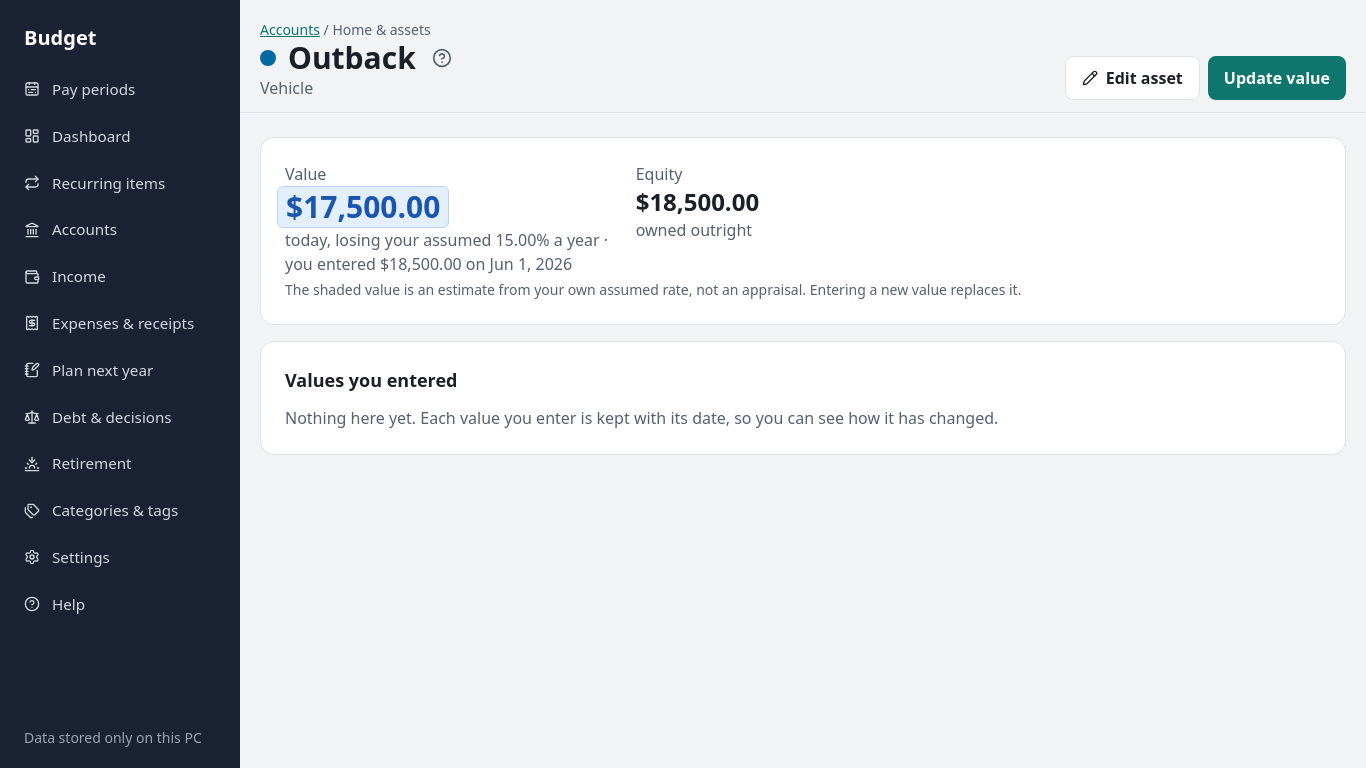
Test: accounts screen: home & assets › opens a car that loses value on that choice, and words its estimate as a loss
expect the text "today, losing your assumed 15.00% a year · you entered $18,500.00 on Jun 1, 2026" is shown: met, box [285, 228, 620, 276]
Click the button "Edit asset": (1132, 78) [1065, 56, 1200, 100]
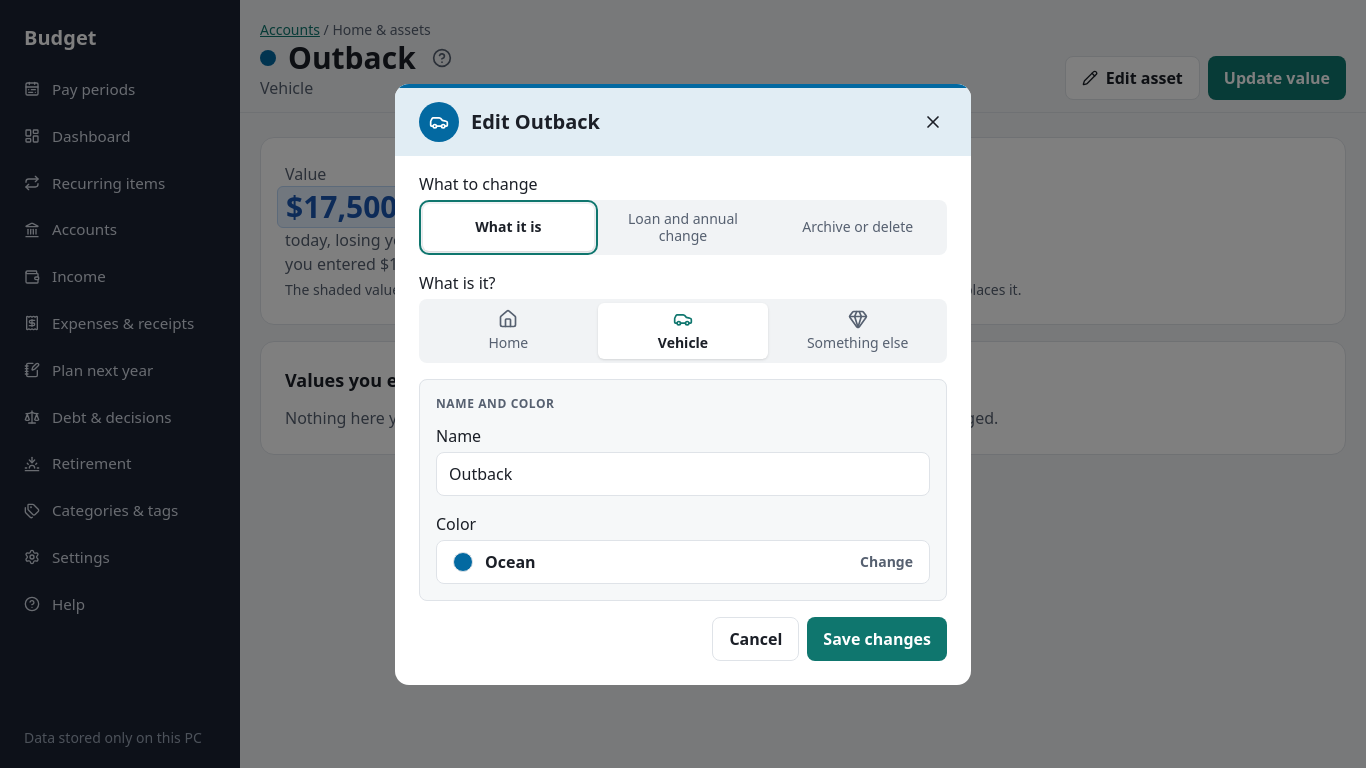
Click the radio button labelled "Loan and annual change": (683, 227) [628, 208, 738, 245]
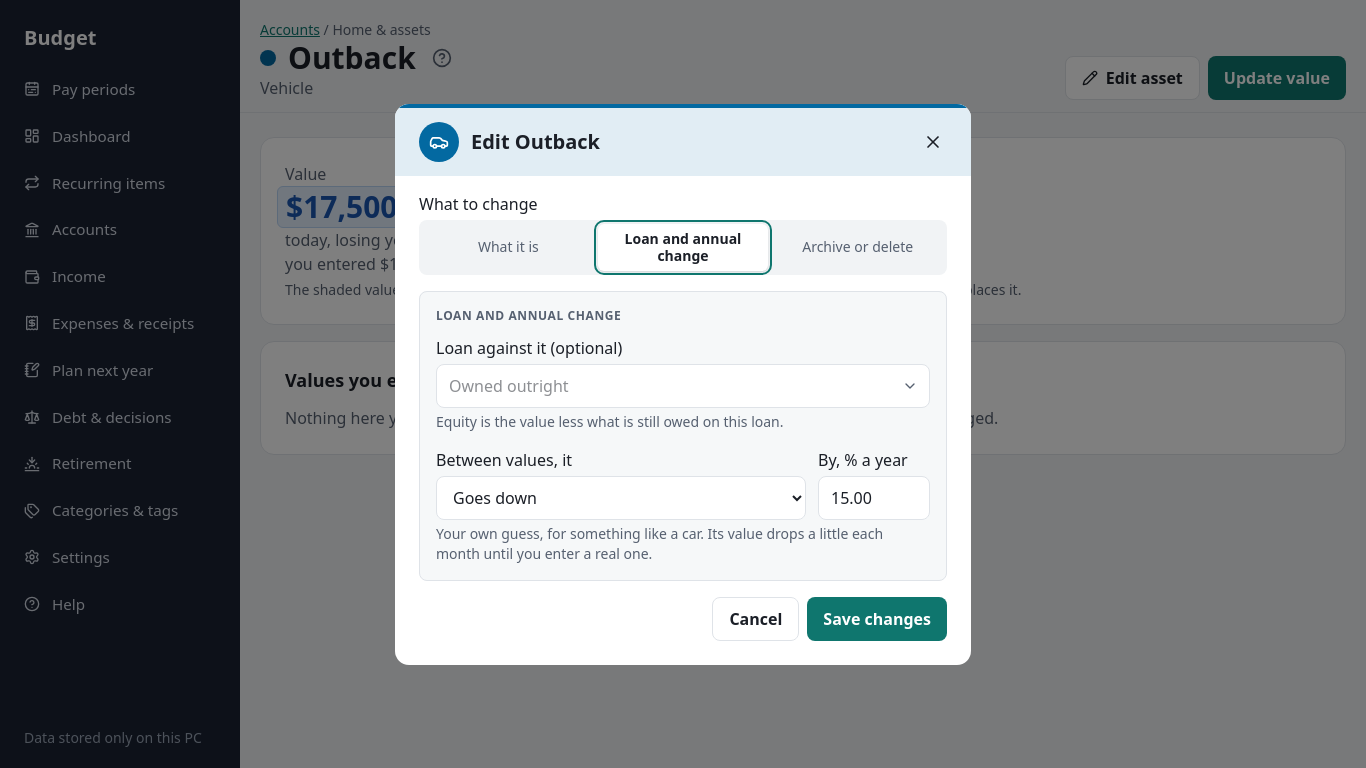
expect the dropdown labelled "Between values, it" shows "Goes down": met, box [436, 476, 806, 520]
expect the field labelled "By, % a year" holds "15.00": met, box [818, 476, 930, 520]
